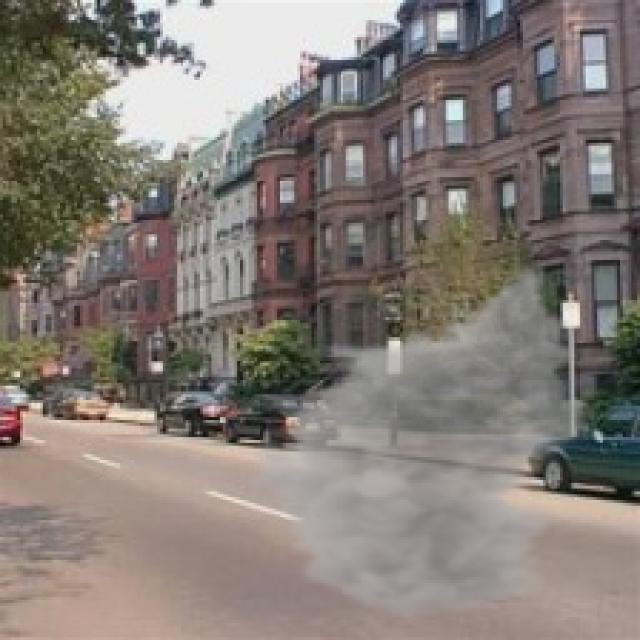Smoke: (240, 263, 603, 623)
